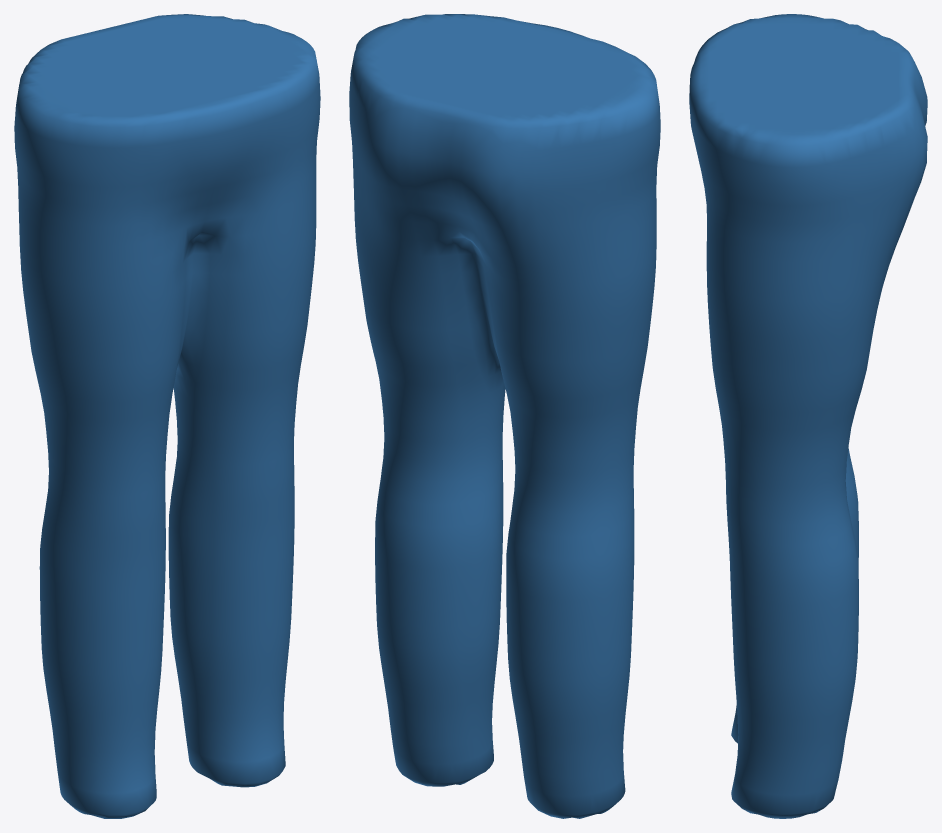
File: female-trousers-Mavi.glb
The picture shows the model from 3 angles, left to right: view 1: azimuth 30°, elevation 25°; view 2: azimuth 150°, elevation 25°; view 3: azimuth 270°, elevation 25°; orthographic projection. The views are drawn at different scales.
Visible parts, largest first — view 1: worn-bottom; view 2: worn-bottom; view 3: worn-bottom.
Part boxes in pixels (x1,y1,x2,y2): worn-bottom: (14,14,320,818); worn-bottom: (349,14,660,818); worn-bottom: (689,14,927,818).
Bounding box in the file's own units: 0.4527 × 1.09 × 0.3383.
